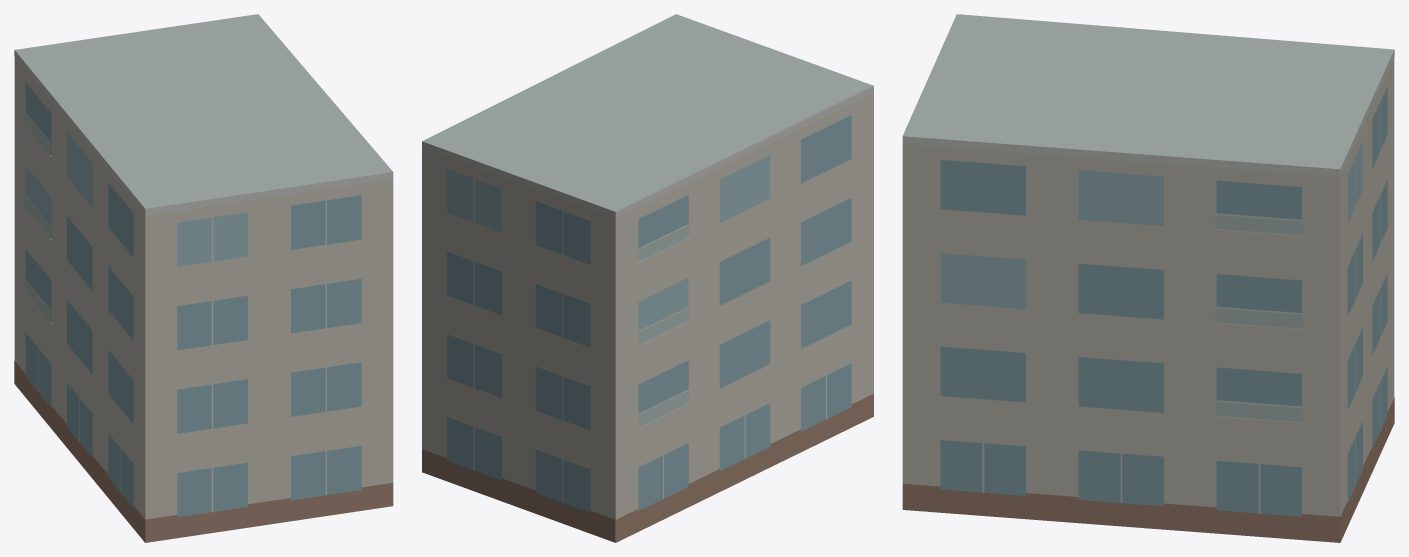
The model's file is survey-upis-32975349.glb.
The picture shows the model from 3 angles, left to right: view 1: azimuth 30°, elevation 25°; view 2: azimuth 150°, elevation 25°; view 3: azimuth 270°, elevation 25°; orthographic projection. The views are drawn at different scales.
Visible parts, largest first — view 1: survey-upis-32975349.tmp; view 2: survey-upis-32975349.tmp; view 3: survey-upis-32975349.tmp.
Boxes of the visible parts, left/top/right/bottom form: survey-upis-32975349.tmp: left=14, top=14, right=393, bottom=542; survey-upis-32975349.tmp: left=422, top=14, right=873, bottom=542; survey-upis-32975349.tmp: left=902, top=14, right=1394, bottom=542.
Bounding box in the file's own units: 10.71 × 12 × 14.33.
